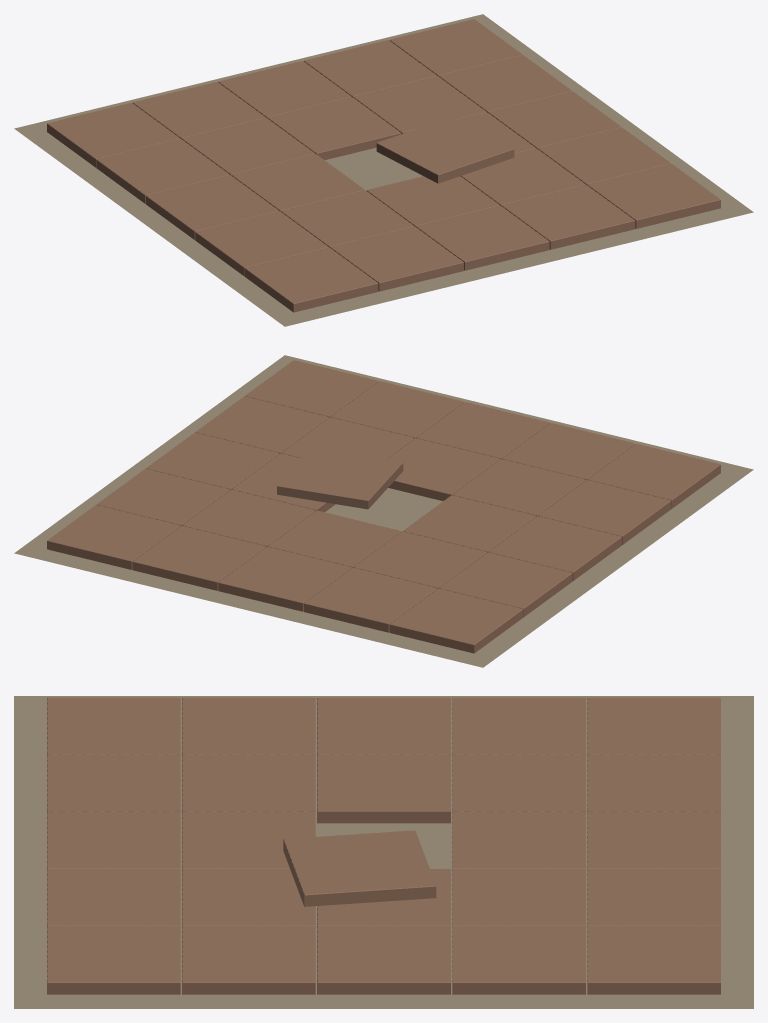
The model's file is terilgan.glb.
3 views of the same model, one above another, from view 1: azimuth 30°, elevation 25°; view 2: azimuth 150°, elevation 25°; view 3: azimuth 270°, elevation 25° (orthographic). The views are drawn at different scales.
Visible parts, largest first — view 1: qum, t.012, t, t.015, t.005, t.010, t.020, t.013, t.001, t.002, t.003, t.004 (+14 smaller); view 2: qum, t.004, t.012, t.019, t.009, t.014, t.024, t.002, t.003, t.001, t, t.006 (+14 smaller); view 3: qum, t.012, t.007, t.020, t.021, t.022, t.023, t.024, t, t.001, t.002, t.003 (+14 smaller).
Boxes of the visible parts, <box> form: qum: <box>14,14,753,326</box>; t.012: <box>376,117,514,183</box>; t: <box>244,247,378,312</box>; t.015: <box>501,185,635,249</box>; t.005: <box>330,226,463,291</box>; t.010: <box>416,205,549,270</box>; t.020: <box>587,164,720,228</box>; t.013: <box>267,97,401,159</box>; t.001: <box>195,211,328,276</box>; t.002: <box>146,175,279,239</box>; t.003: <box>96,139,229,203</box>; t.004: <box>47,103,180,167</box>; qum: <box>14,355,753,667</box>; t.004: <box>389,588,523,653</box>; t.012: <box>277,447,403,509</box>; t.019: <box>132,526,266,590</box>; t.009: <box>304,567,437,632</box>; t.014: <box>218,546,351,611</box>; t.024: <box>47,505,180,569</box>; t.002: <box>488,516,621,580</box>; t.003: <box>439,552,572,617</box>; t.001: <box>538,480,671,544</box>; t: <box>587,444,720,508</box>; t.006: <box>452,459,585,516</box>; qum: <box>14,696,753,1008</box>; t.012: <box>283,830,436,906</box>; t.007: <box>317,754,450,823</box>; t.020: <box>47,926,180,994</box>; t.021: <box>182,926,315,994</box>; t.022: <box>317,926,450,994</box>; t.023: <box>452,926,585,994</box>; t.024: <box>587,926,720,994</box>; t: <box>47,697,180,754</box>; t.001: <box>182,697,315,754</box>; t.002: <box>317,697,450,754</box>; t.003: <box>452,697,585,754</box>.
Bounding box in the file's own units: 1.66 × 0.062 × 1.66.
